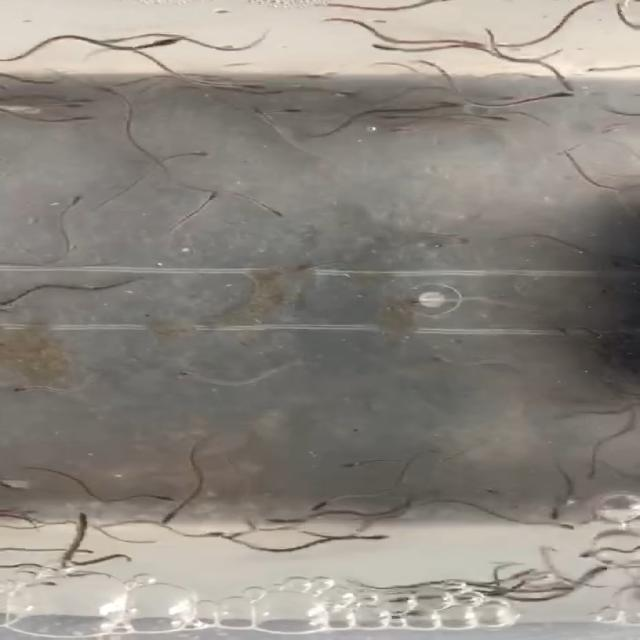active_glass_eel: (449, 474, 518, 504), (240, 508, 327, 530), (532, 488, 578, 528), (168, 360, 226, 390), (346, 531, 412, 554), (401, 89, 467, 111), (11, 371, 50, 408), (538, 88, 588, 116), (562, 460, 610, 486), (484, 113, 527, 141), (134, 480, 177, 506), (61, 506, 106, 530), (50, 188, 100, 208), (187, 184, 227, 209), (299, 74, 346, 94), (362, 38, 398, 64), (169, 144, 212, 165), (263, 201, 301, 224), (540, 71, 582, 91), (340, 456, 380, 476), (150, 511, 188, 531), (288, 492, 326, 512), (284, 104, 330, 120), (156, 32, 184, 52), (72, 113, 110, 127), (225, 77, 256, 94), (29, 67, 54, 88), (62, 94, 102, 106)
